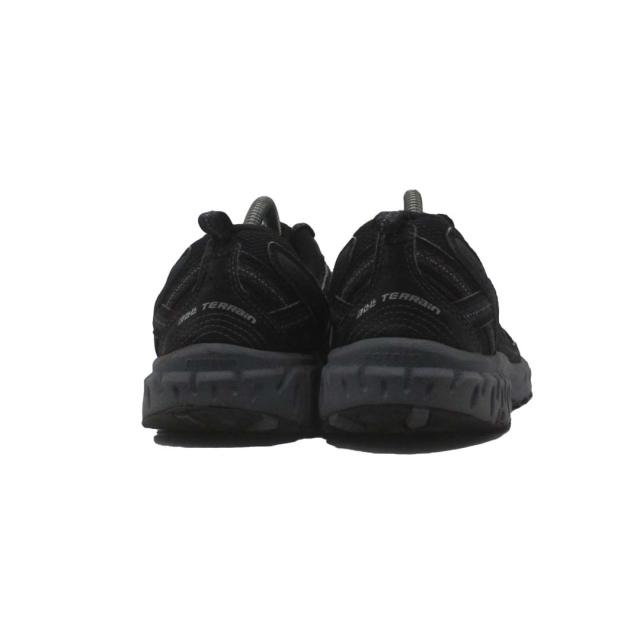heel: (152, 210, 319, 355), (333, 211, 496, 352)
midsole: (324, 336, 531, 433), (143, 347, 322, 434)
